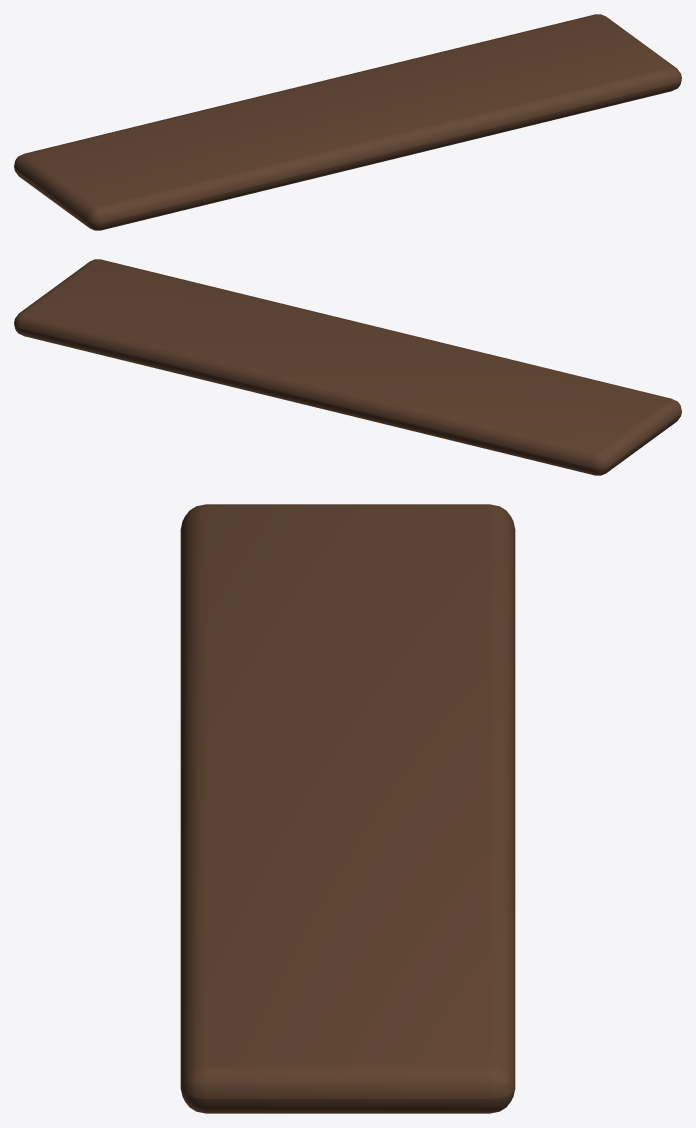
The model's file is Easy Procedural Stylized Wood.fbx.
The picture shows the model from 3 angles, top to bottom: view 1: azimuth 30°, elevation 25°; view 2: azimuth 150°, elevation 25°; view 3: azimuth 270°, elevation 25°; orthographic projection. The views are drawn at different scales.
Visible parts, largest first — view 1: Plank; view 2: Plank; view 3: Plank.
Boxes of the visible parts, x1,y1,x2,y2 form: Plank: (14, 14, 681, 230); Plank: (14, 259, 681, 475); Plank: (180, 504, 515, 1113).
Bounding box in the file's own units: 200 × 7.54 × 48.83.
